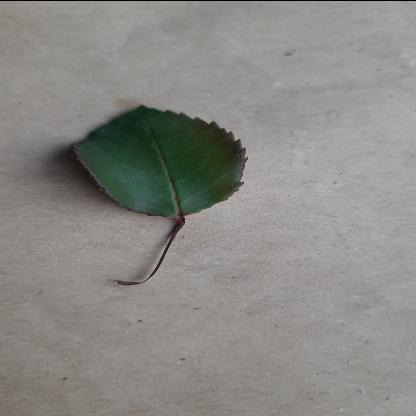normal: (68, 104, 254, 212)
